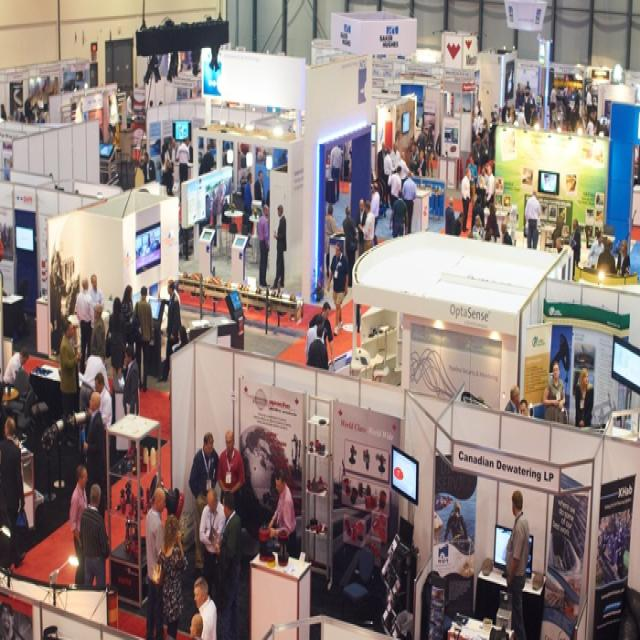body: (501, 78, 610, 141), (151, 506, 188, 638), (0, 70, 89, 124), (377, 117, 443, 184), (188, 429, 220, 566), (216, 489, 244, 640), (503, 489, 531, 640), (471, 102, 498, 244), (144, 485, 168, 640), (82, 390, 108, 525), (78, 482, 110, 590), (48, 246, 80, 354), (198, 486, 228, 600), (264, 466, 299, 558), (0, 594, 66, 638), (216, 427, 247, 520), (59, 318, 83, 434), (68, 466, 90, 592), (129, 283, 154, 392), (157, 277, 182, 384), (326, 240, 351, 338), (434, 488, 469, 554), (0, 414, 27, 498), (72, 274, 95, 369), (78, 346, 110, 411), (270, 203, 292, 294), (307, 299, 335, 366), (542, 358, 569, 426), (192, 576, 219, 640), (108, 294, 127, 382), (120, 341, 141, 416), (573, 363, 596, 429), (341, 203, 358, 290), (1, 342, 31, 390), (256, 202, 272, 288), (88, 303, 108, 367), (324, 202, 340, 280), (525, 185, 542, 258), (94, 370, 114, 432), (400, 168, 417, 237), (306, 323, 329, 371), (174, 136, 190, 205), (304, 314, 326, 364), (549, 205, 566, 269), (388, 189, 409, 240), (356, 200, 376, 253), (197, 140, 216, 193), (157, 132, 173, 194), (459, 166, 473, 234), (329, 136, 343, 203), (240, 170, 253, 240), (354, 195, 368, 259), (370, 179, 382, 251), (121, 283, 134, 349), (387, 163, 404, 210), (595, 237, 616, 275), (546, 236, 565, 278), (570, 218, 582, 283), (587, 228, 605, 270), (615, 237, 631, 277), (88, 272, 104, 310), (503, 382, 522, 414), (141, 150, 157, 186), (208, 182, 230, 208), (444, 195, 457, 237), (188, 611, 205, 640), (252, 168, 265, 202), (125, 86, 136, 126), (378, 182, 390, 213), (500, 220, 513, 247), (454, 212, 466, 238), (518, 397, 530, 416)
